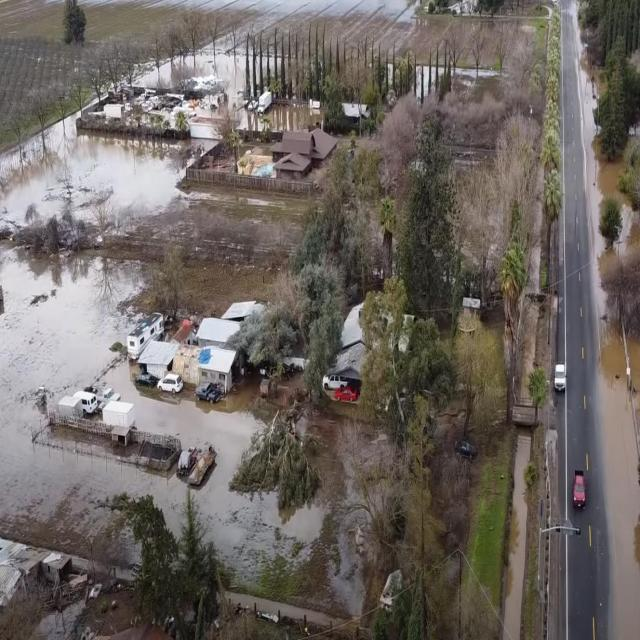flood: (0, 241, 327, 581), (570, 0, 640, 319), (0, 131, 189, 226), (600, 330, 640, 639), (160, 47, 244, 94), (240, 99, 322, 131), (630, 336, 640, 425), (134, 66, 158, 87)
house: (0, 532, 74, 630), (271, 123, 341, 186), (134, 339, 186, 391), (331, 303, 365, 381), (195, 344, 240, 402), (103, 396, 137, 444), (341, 102, 372, 129)
